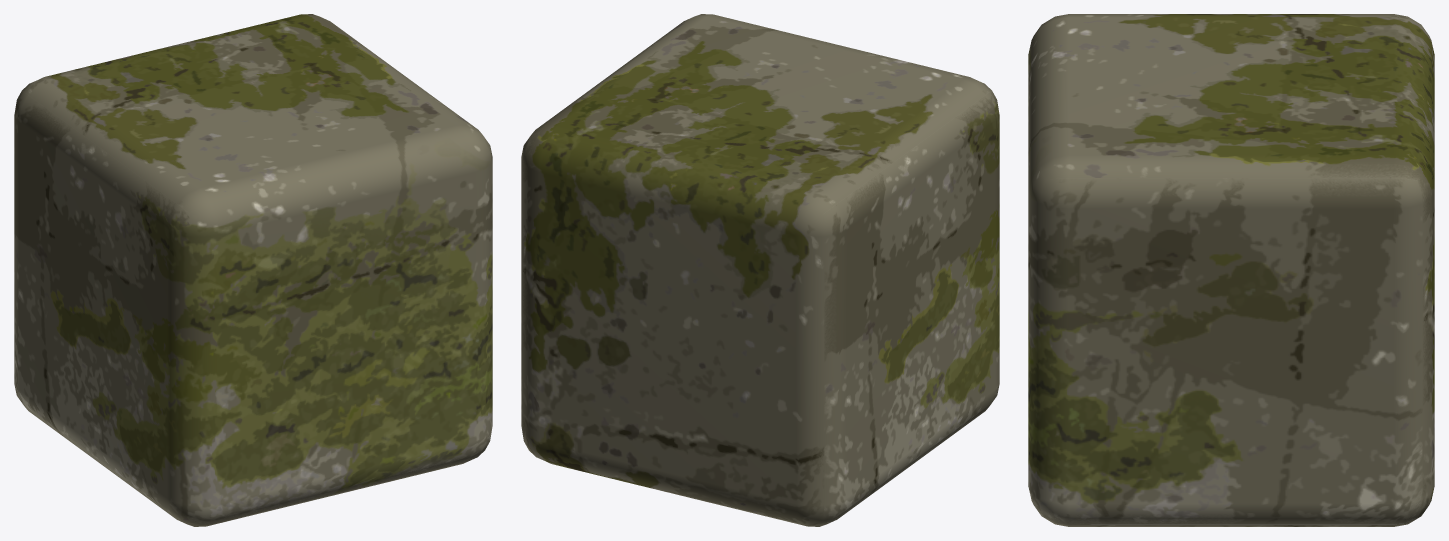
Rendered from Rounded Cube.fbx.
3 views of the same model, side by side, from view 1: azimuth 30°, elevation 25°; view 2: azimuth 150°, elevation 25°; view 3: azimuth 270°, elevation 25° (orthographic). The views are drawn at different scales.
Parts seen in each view (by area): view 1: pasted__pCube1; view 2: pasted__pCube1; view 3: pasted__pCube1.
Part boxes in pixels (box(x1,y1,x2,y2)): pasted__pCube1: box(14, 14, 492, 526); pasted__pCube1: box(521, 14, 999, 526); pasted__pCube1: box(1028, 14, 1434, 526).
Bounding box in the file's own units: 2 × 2 × 2.
